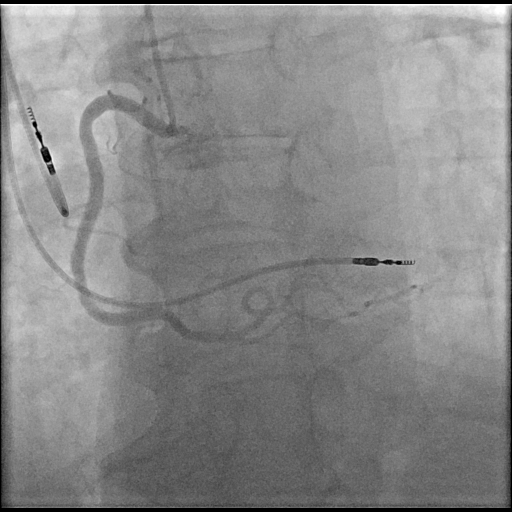RCA: (69, 97, 242, 342)
catherter: (141, 4, 175, 132)
